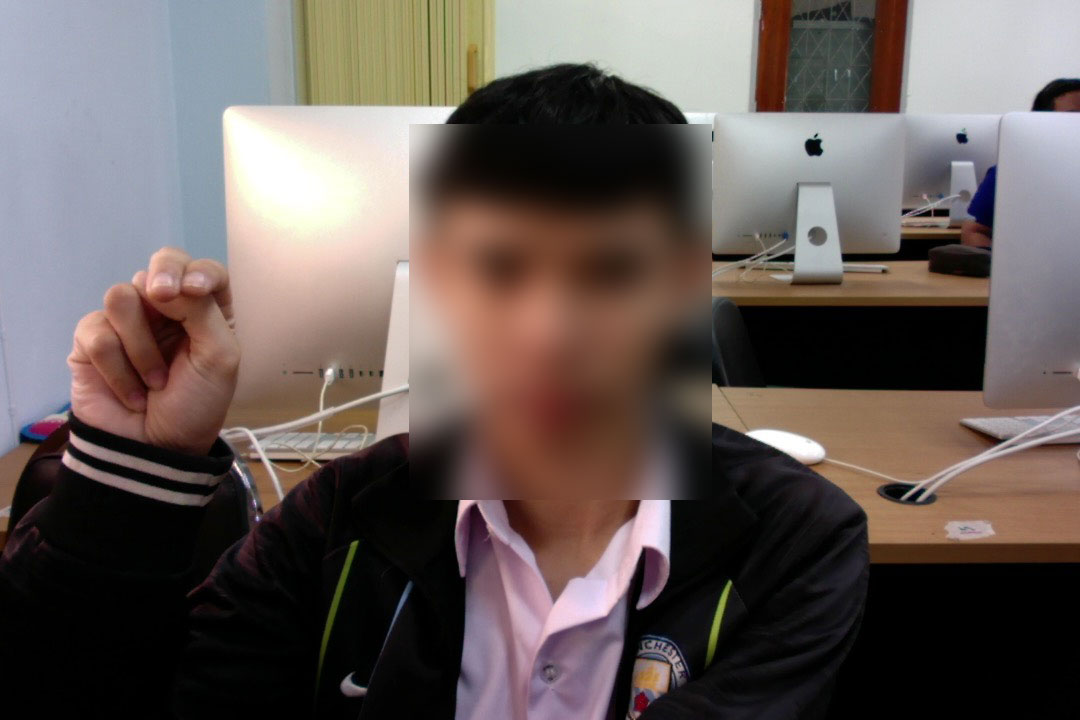nor: (48, 240, 249, 491)
